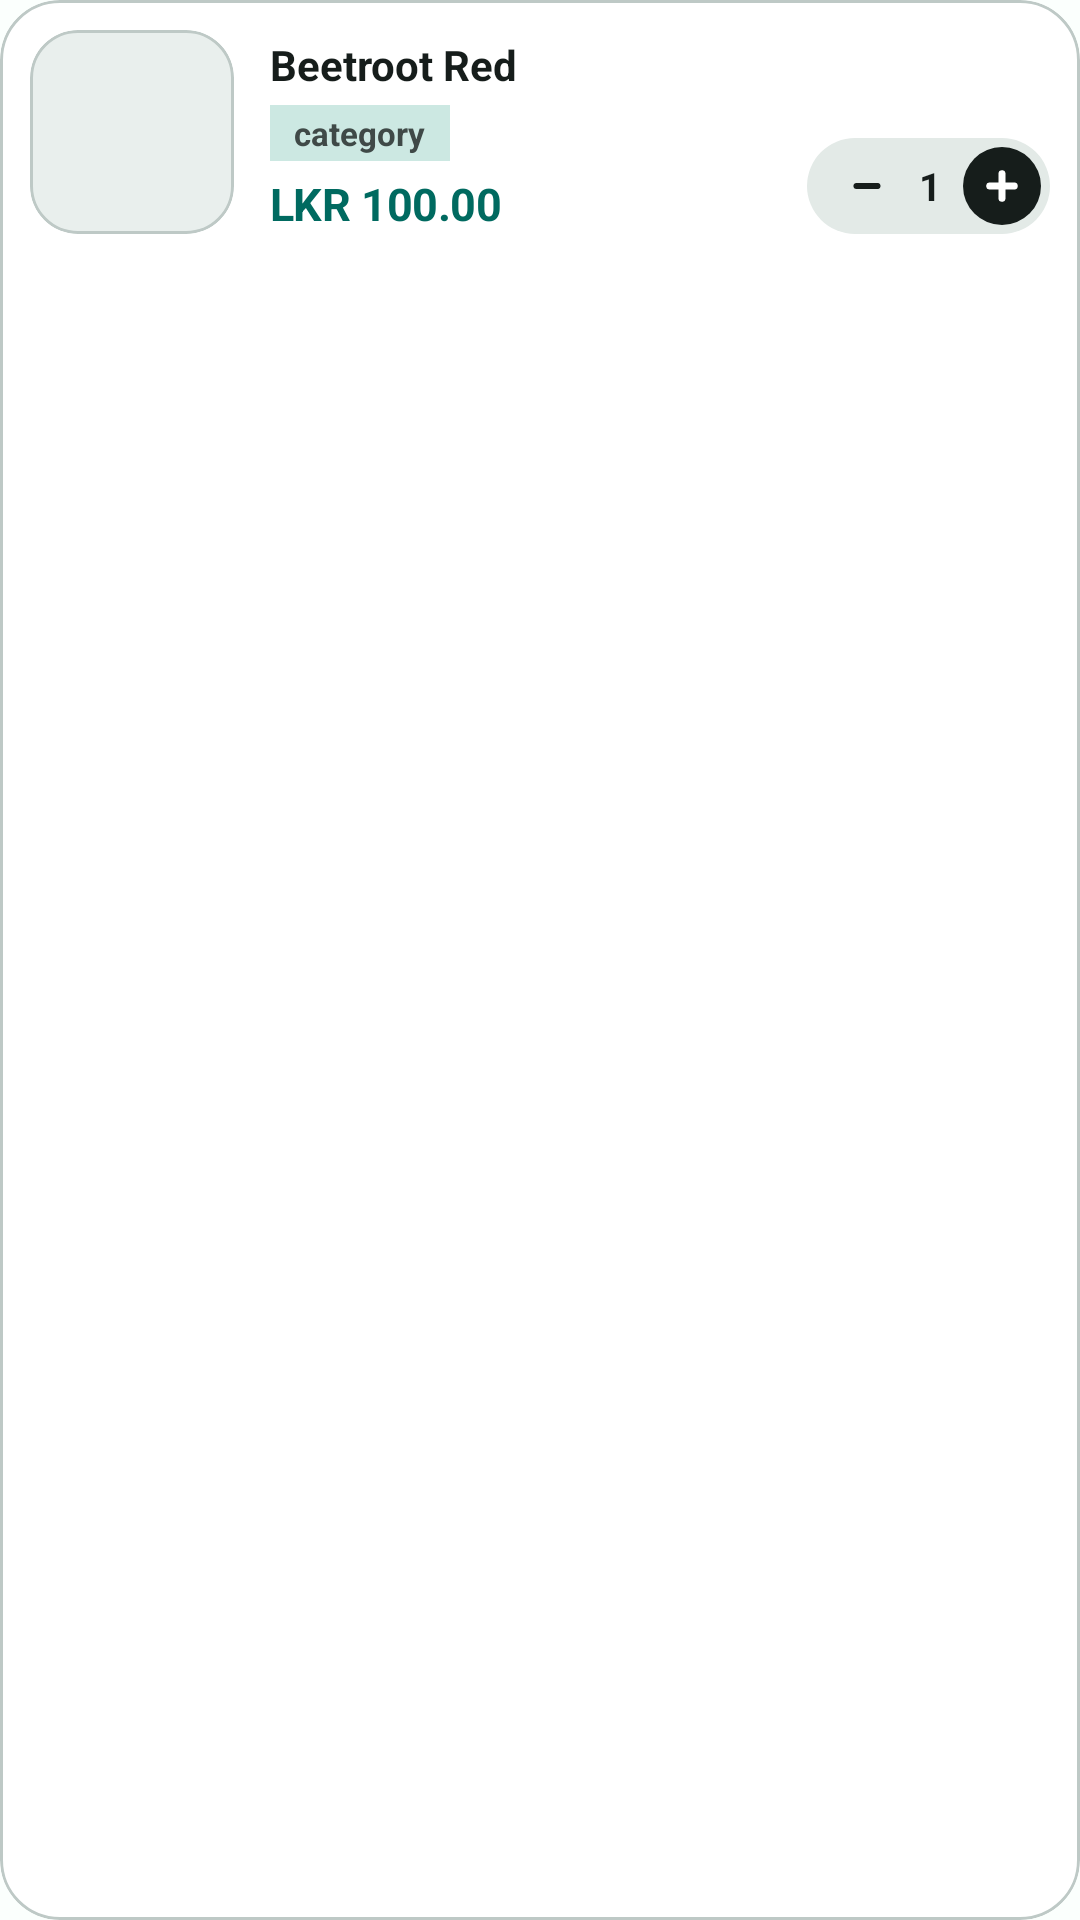

Where icons sit on this 1080px×1920px app screen, as (x1, y1, x2, y2):
minus: (807, 141, 897, 231)
plus: (963, 147, 1041, 225)
